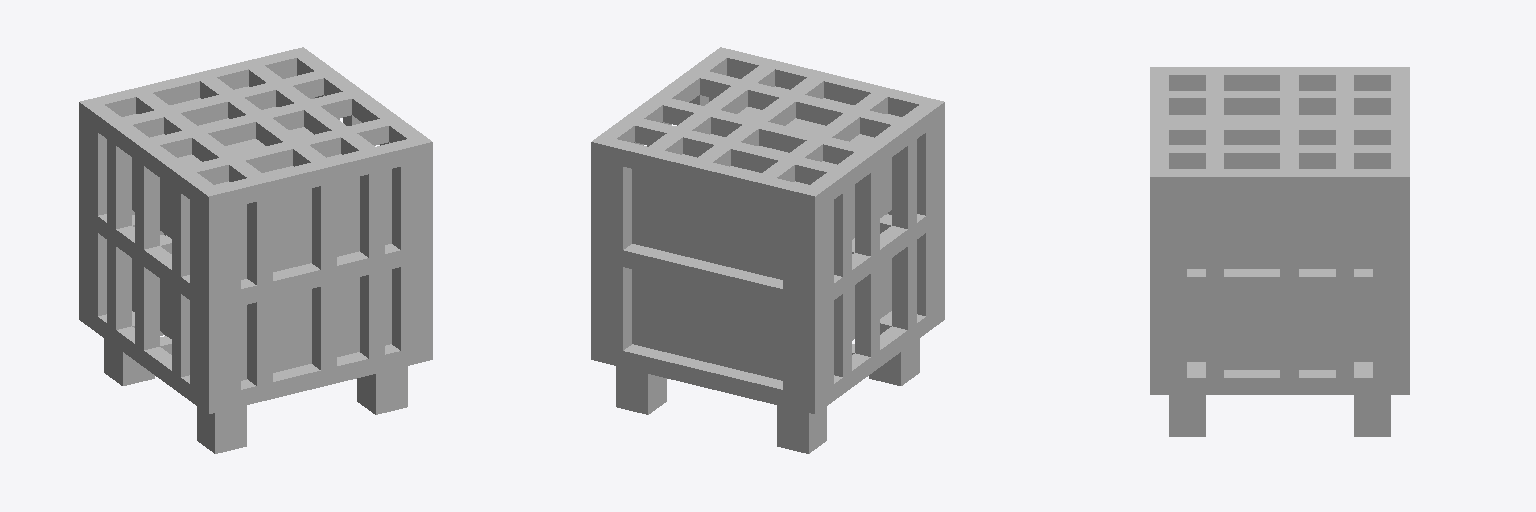
The model's file is super_computer_two_slots.obj.
The picture shows the model from 3 angles: view 1: azimuth 30°, elevation 25°; view 2: azimuth 150°, elevation 25°; view 3: azimuth 270°, elevation 25°; orthographic projection.
Parts seen in each view (by area): view 1: node_0_0_0.002_node_0_0_0.003; view 2: node_0_0_0.002_node_0_0_0.003; view 3: node_0_0_0.002_node_0_0_0.003.
Boxes of the visible parts, x1=… form: node_0_0_0.002_node_0_0_0.003: x1=79, y1=47, x2=432, y2=453; node_0_0_0.002_node_0_0_0.003: x1=591, y1=47, x2=944, y2=453; node_0_0_0.002_node_0_0_0.003: x1=1150, y1=67, x2=1409, y2=436.
Bounding box in the file's own units: 0.875 × 1 × 0.875.